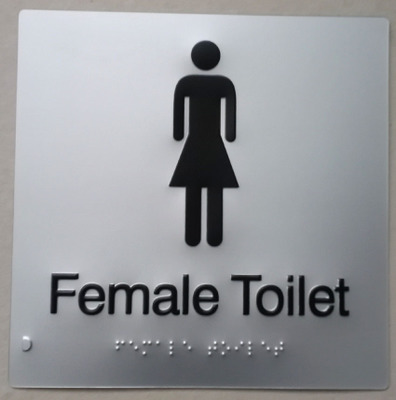Braille: (168, 339, 180, 357), (207, 340, 219, 357), (182, 340, 193, 358), (221, 339, 232, 357), (234, 340, 245, 358), (260, 340, 271, 358), (273, 340, 284, 358), (115, 339, 126, 356), (155, 340, 166, 357), (247, 340, 258, 357), (142, 340, 152, 357), (129, 340, 139, 356)
